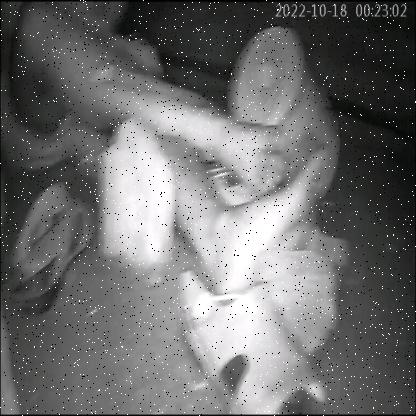leg: (167, 134, 334, 307)
